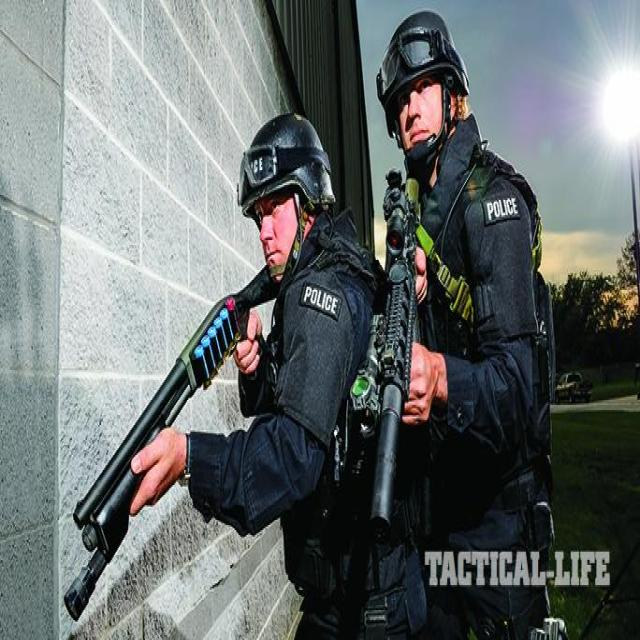Rifle: (351, 170, 421, 520)
ShotGun: (69, 267, 281, 620)
